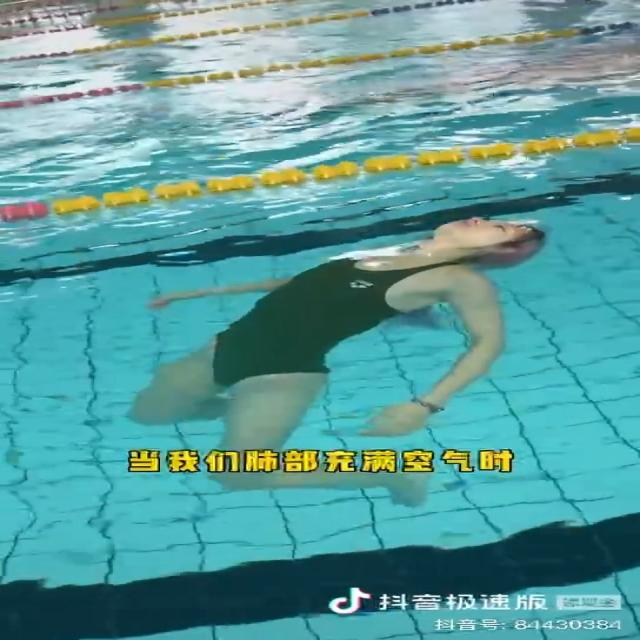Drowning: (126, 215, 548, 507)
